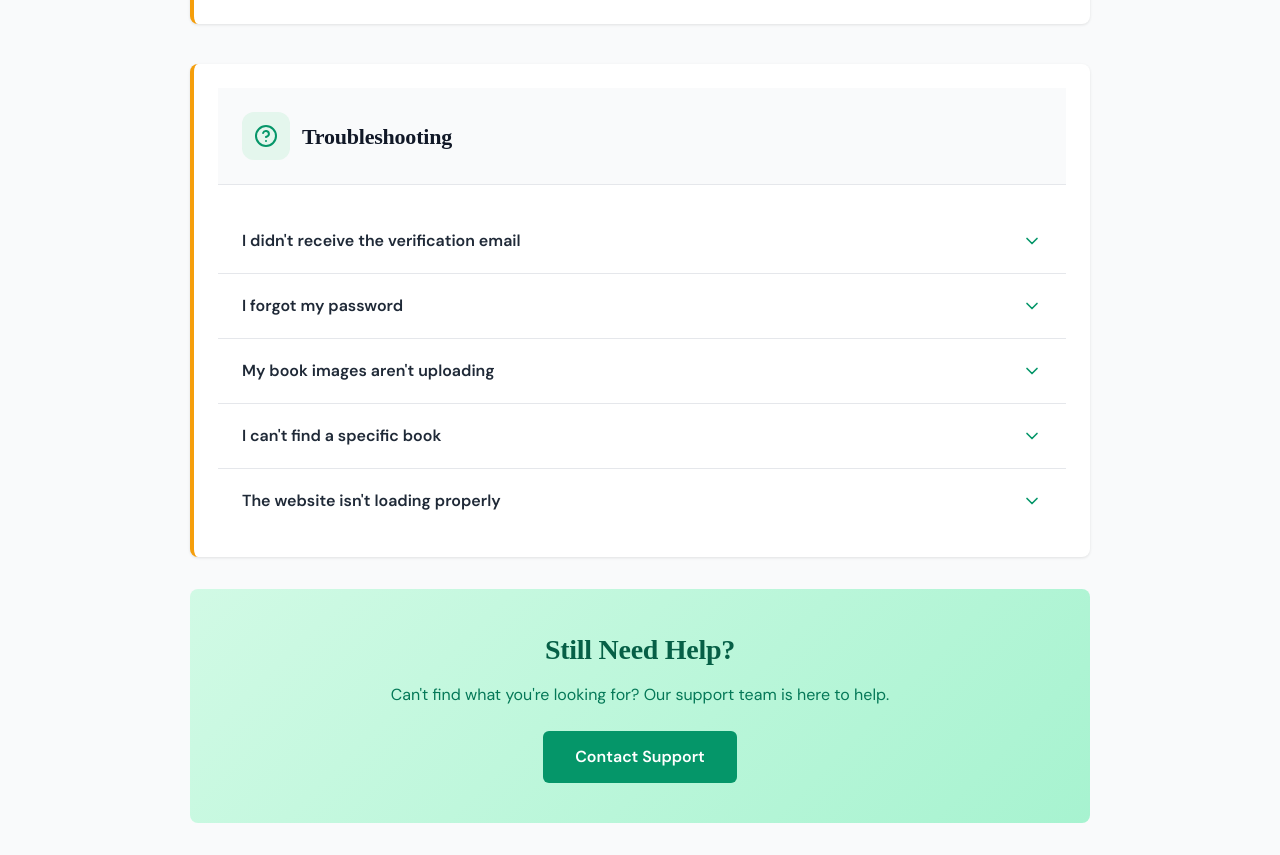
HelpCenterPage › displays contact information in troubleshooting answers
(page scrolled)
Find and click on a troubleshooting question
Click the button "The website isn't loading properly".
click(371, 501)  # box [218,469,1066,533]
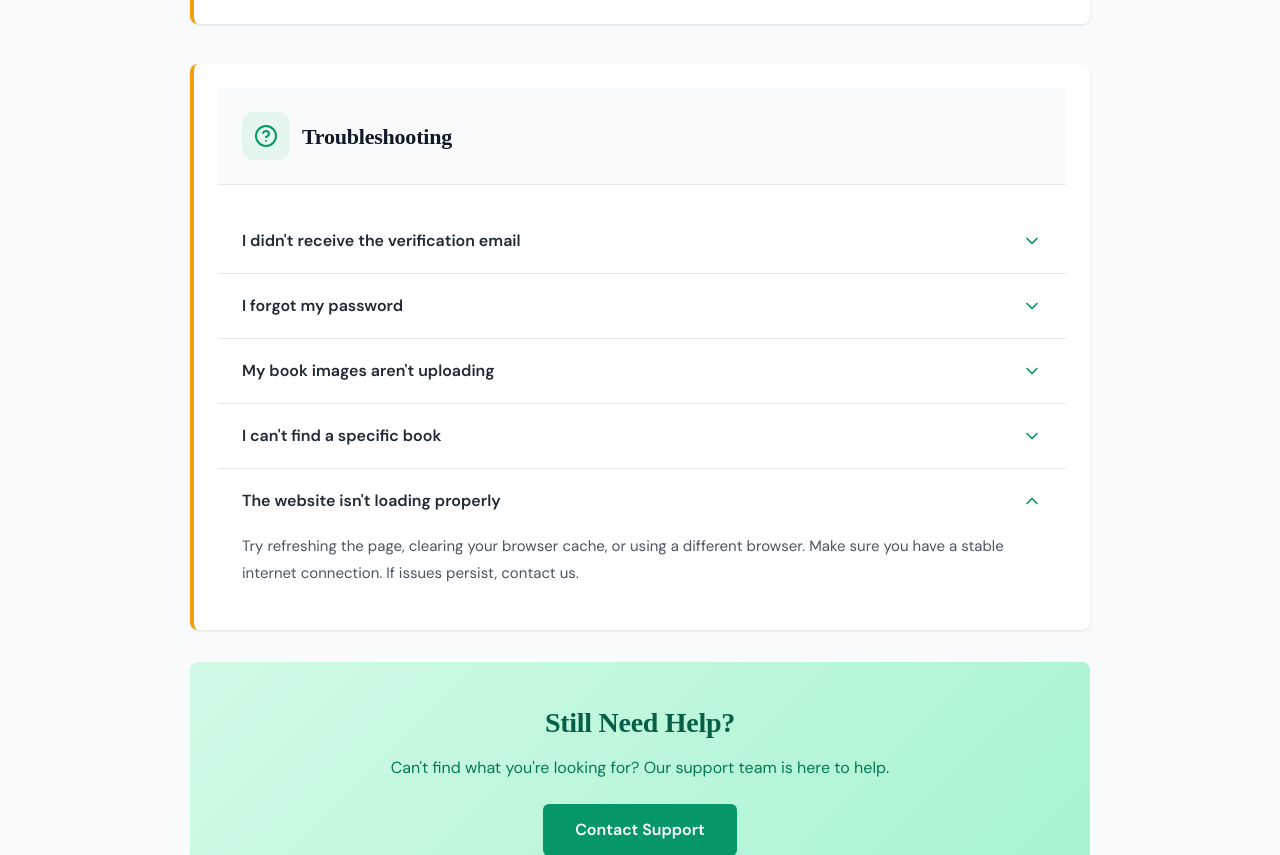
Now the text "If issues persist, contact us" is shown, box [242,536,1004,583]
